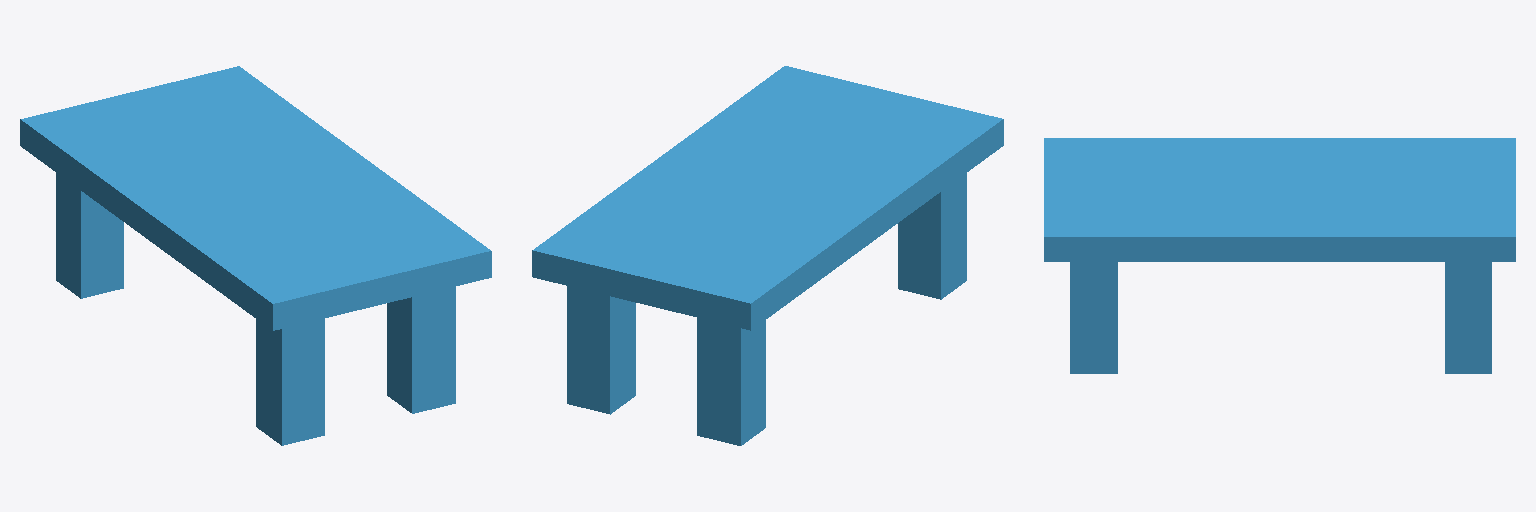
The robot description file, URDF, robot "SimpleTable":
<?xml version="1.0"?>
<robot name="SimpleTable">
    <link name="world"/>

    <!-- Weld ‘table_link’ to ‘world’ with a fixed joint -->
    <joint name="fixed" type="fixed">
        <parent link="world"/>
        <child  link="SimpleTable"/>
        <!-- Optionally set an offset -->
        <origin xyz="0 0 0" rpy="0 0 0"/>
    </joint>

    <link name="SimpleTable">
        <visual>
            <origin rpy="0 0 0" xyz="0 0 0"/>
            <geometry>
                <mesh filename="SimpleTable.obj"/>
            </geometry>
        </visual>

        <collision>
            <geometry>
                <mesh filename="SimpleTable.obj"/>
            </geometry>
            <origin rpy="0 0 0" xyz="0 0 0"/>
        </collision>
    </link>


</robot>

--- Facts derived from the render (not from the file) ---
3 views of the same robot in one strip: view 1: azimuth 30°, elevation 25°; view 2: azimuth 150°, elevation 25°; view 3: azimuth 270°, elevation 25° (orthographic).
Robot: SimpleTable — 2 links, 1 joints (1 fixed); root link world; default pose: all joints at 0.
Links seen in each view (by area): view 1: SimpleTable; view 2: SimpleTable; view 3: SimpleTable.
Boxes of the visible links, x1,y1,x2,y2 form: SimpleTable: [20, 66, 491, 445]; SimpleTable: [532, 66, 1003, 445]; SimpleTable: [1044, 138, 1515, 373].
Size in the robot's own frame: 1.01 by 2.01 by 0.693 metres.
Meshes: 1 distinct files referenced, 1 mesh visuals loaded (1 OBJ).